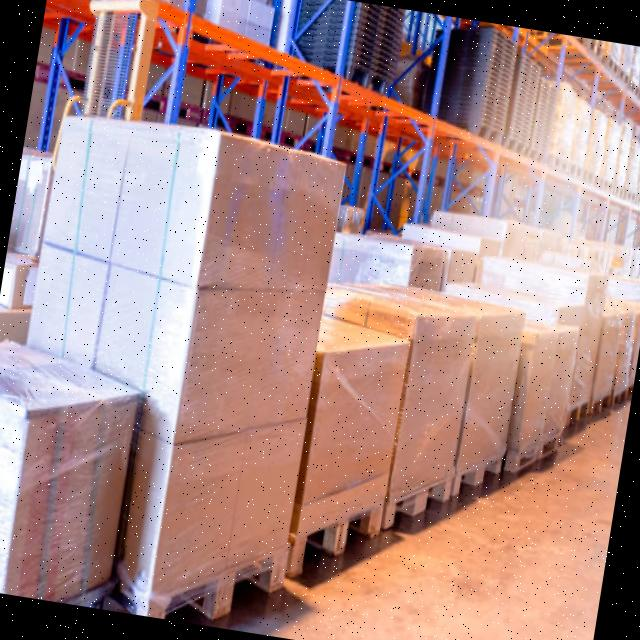Wooden-Pallets: (143, 527, 291, 625), (292, 495, 389, 600), (380, 470, 454, 539), (449, 438, 506, 509), (513, 424, 570, 484)
